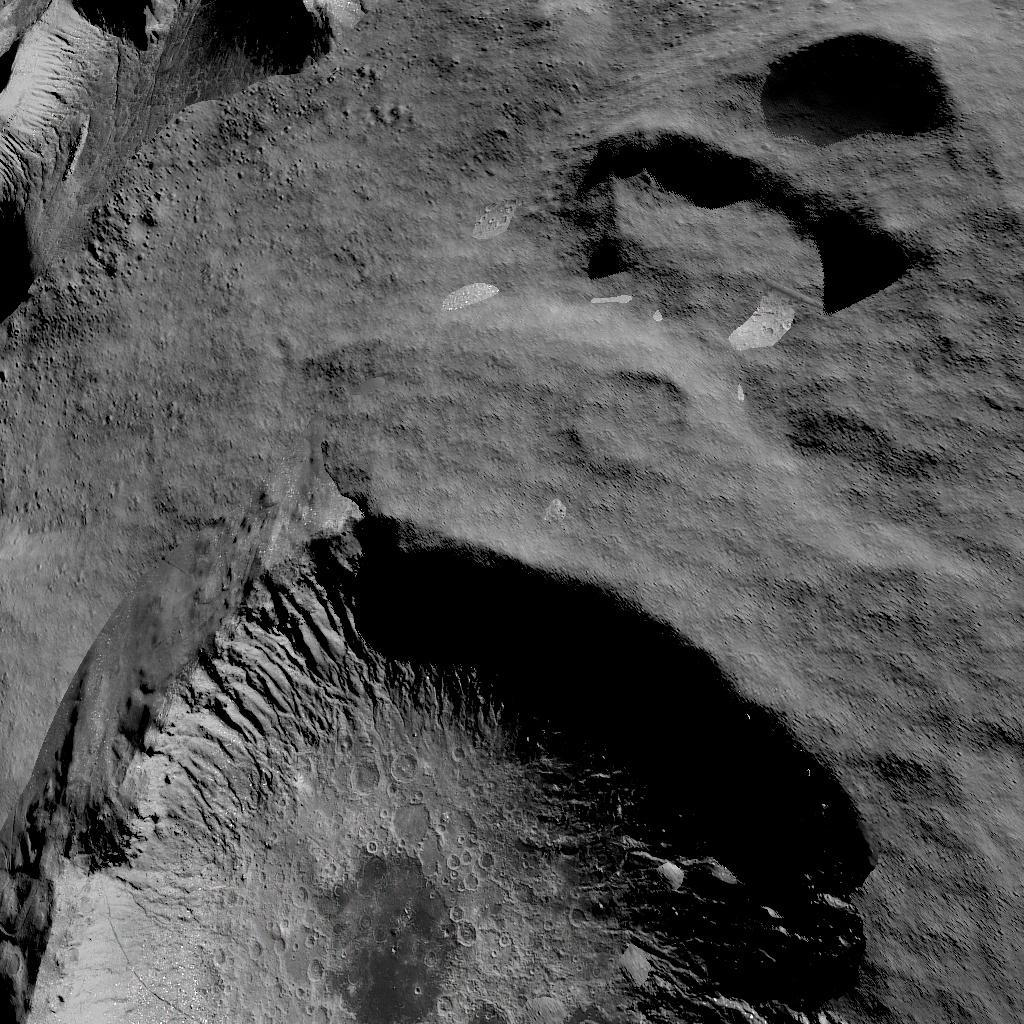Boulders: (0, 0, 394, 334)
Crater: (0, 502, 926, 1024), (560, 19, 970, 318), (561, 350, 722, 490)
